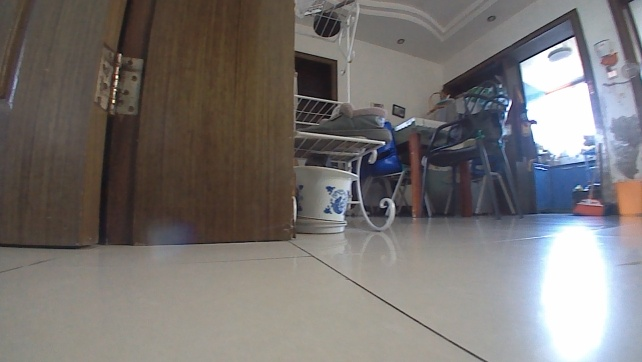cupboard1: (533, 153, 599, 215)
dining_table: (351, 75, 527, 220)
